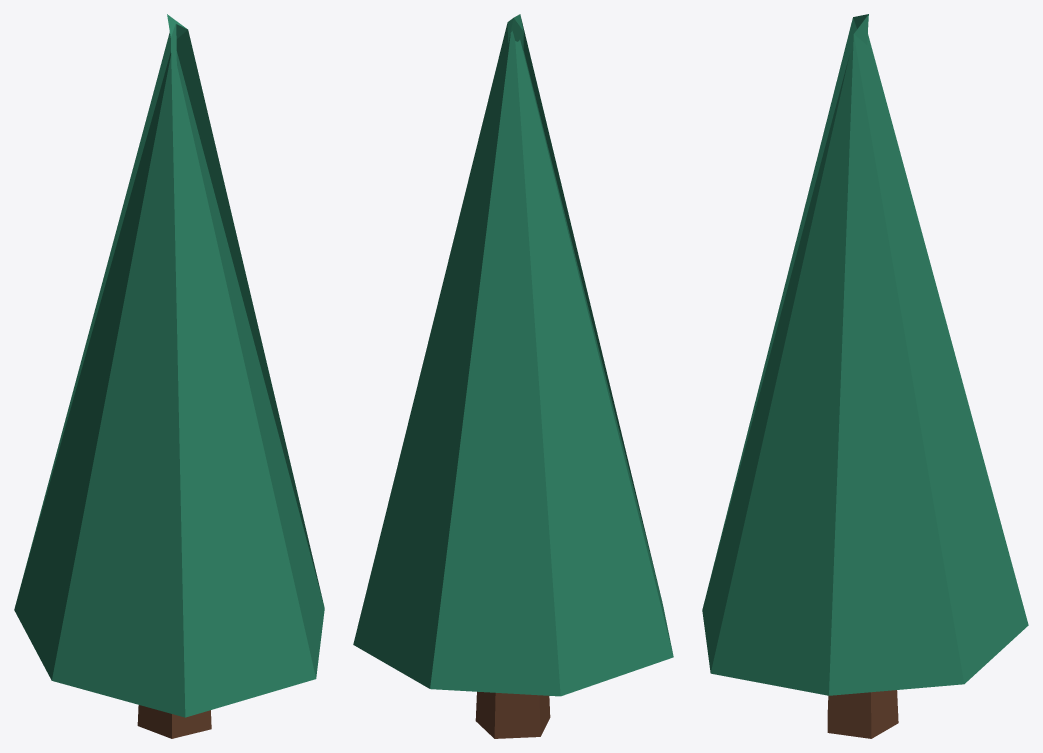
The model's file is tree_cypress_1.glb.
3 views of the same model, side by side, from view 1: azimuth 30°, elevation 25°; view 2: azimuth 150°, elevation 25°; view 3: azimuth 270°, elevation 25° (orthographic).
Parts seen in each view (by area): view 1: tree_cypress_1; view 2: tree_cypress_1; view 3: tree_cypress_1.
Part boxes in pixels (left/top/right/bottom): tree_cypress_1: left=14, top=14, right=324, bottom=738; tree_cypress_1: left=353, top=14, right=673, bottom=738; tree_cypress_1: left=702, top=14, right=1028, bottom=738.
Size of the model in its own units: 1.14 by 2.79 by 1.17.
